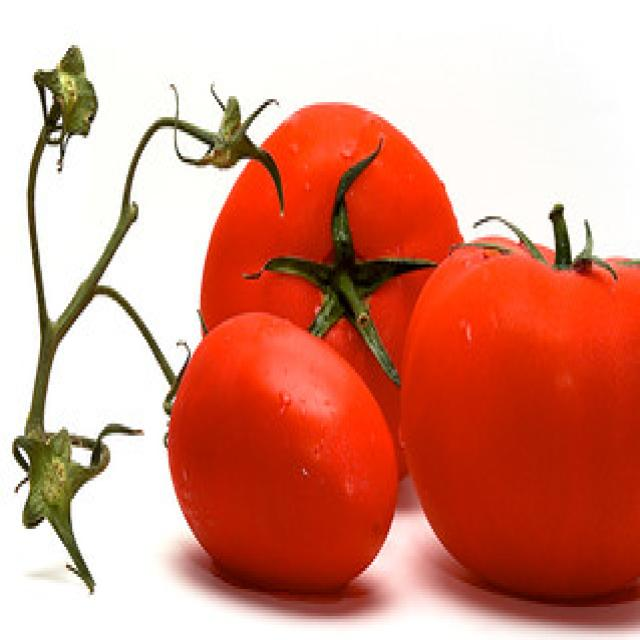Tomato: (185, 101, 470, 495), (399, 230, 640, 612), (165, 311, 403, 605)
